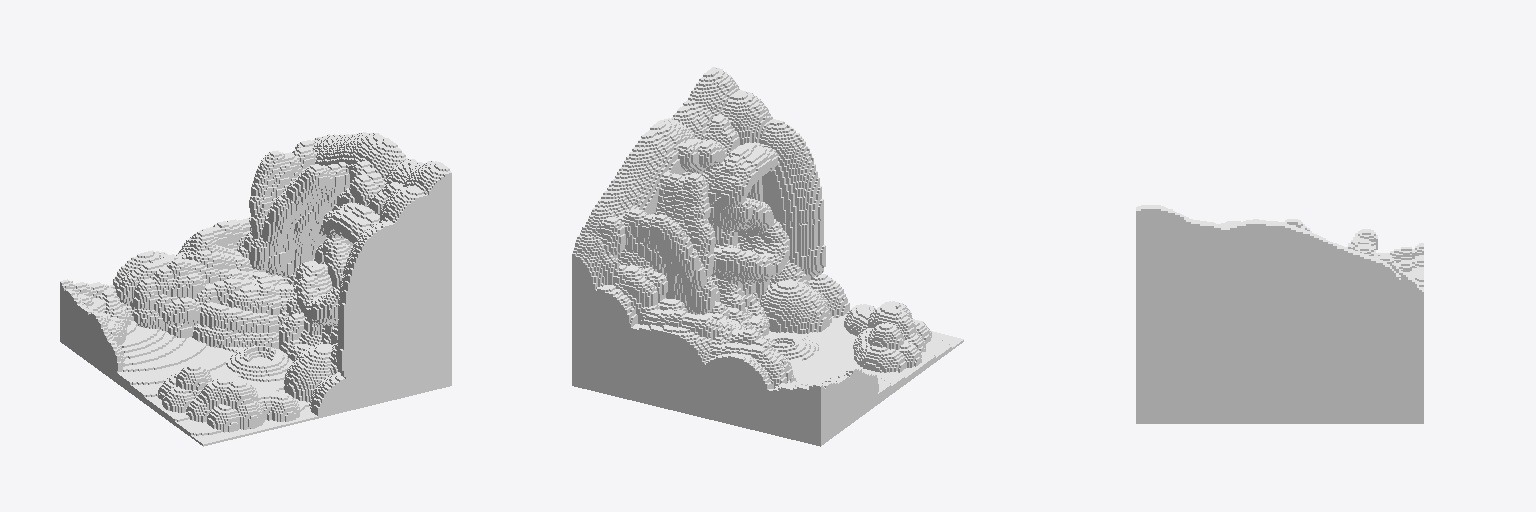
The model's file is Ext_LunarBorder9.obj.
The picture shows the model from 3 angles: view 1: azimuth 30°, elevation 25°; view 2: azimuth 150°, elevation 25°; view 3: azimuth 270°, elevation 25°; orthographic projection.
Bounding box in the file's own units: 126 × 104 × 126.